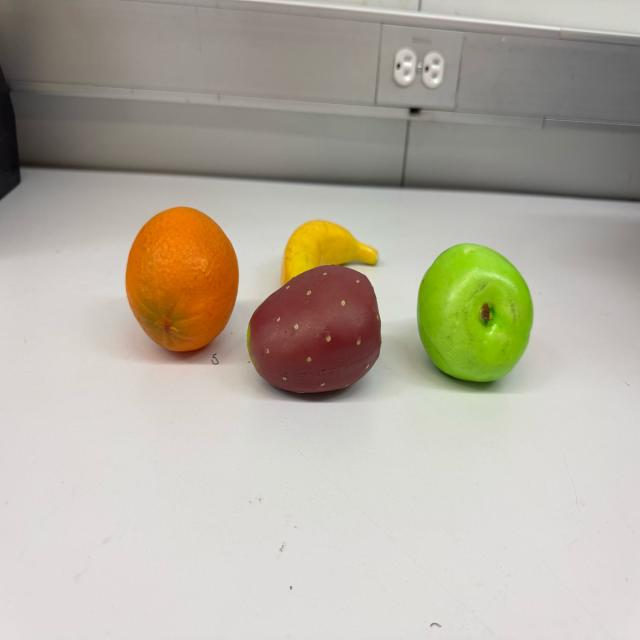banana: (281, 219, 377, 327)
orange: (125, 207, 240, 353)
pear: (416, 241, 535, 383)
tuna: (245, 264, 382, 393)
